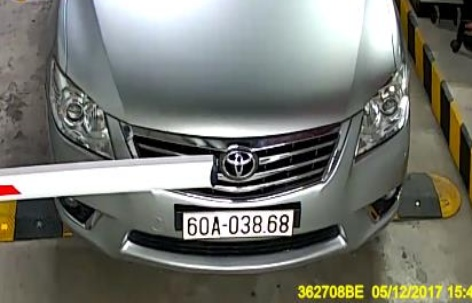plate: (173, 202, 307, 245)
